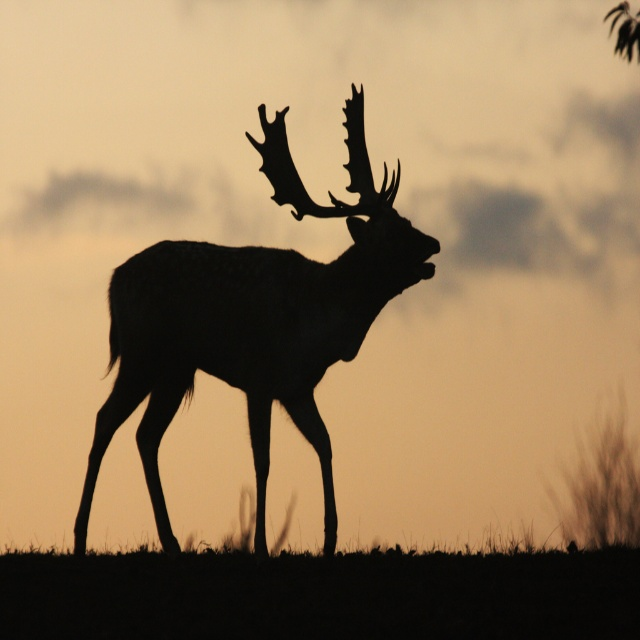Deer: (70, 83, 442, 555)
